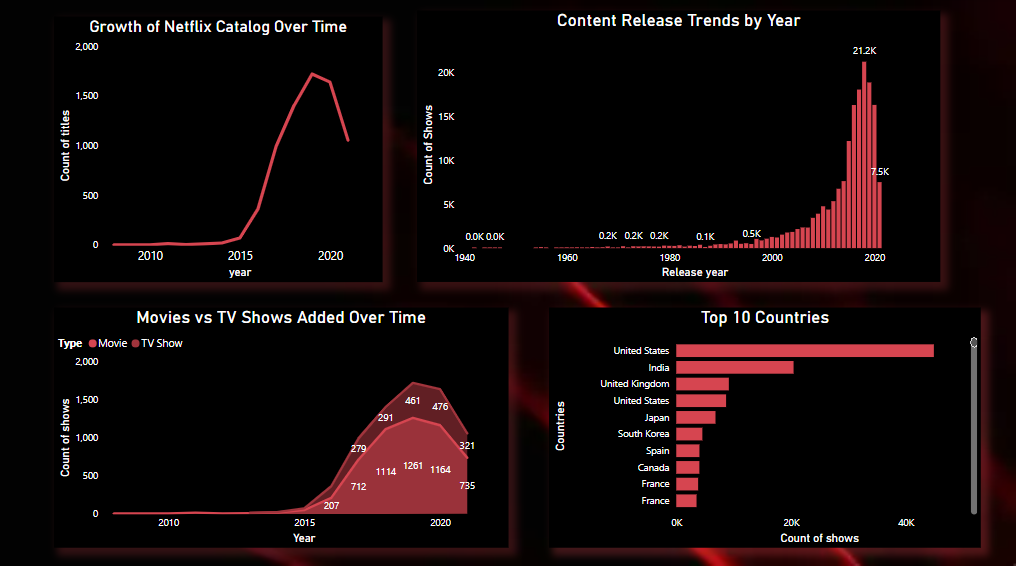

Layout of this report page (visuals, bound fields, positions):
{"tool":"powerbi","page":{"name":"Page 2","canvas":[1280,720],"ordinal":1},"visuals":[{"type":"lineChart","title":"Growth of Netflix Catalog Over Time","fields":{"Category":["netflix_dataset.Year_Added"],"Y":["Count(netflix_dataset.show_id)"]},"box":[68,24.6,413.9,334.5],"z":0},{"type":"stackedAreaChart","title":"Movies vs TV Shows Added Over Time","fields":{"Category":["netflix_dataset.Year_Added"],"Series":["netflix_dataset.type"],"Y":["Count(netflix_dataset.show_id)"]},"box":[68,391.2,572.6,302.4],"z":1000},{"type":"clusteredColumnChart","fields":{"Category":["netflix_dataset.release_year"],"Y":["CountNonNull(netflix_dataset.show_id)"]},"box":[525.4,17,659.5,342],"z":2000},{"type":"barChart","title":"Top 10 Countries","fields":{"Y":["CountNonNull(netflix_dataset.show_id)"],"Category":["netflix_dataset.country","netflix_dataset.director"]},"box":[691.7,391.2,544.3,302.4],"z":2001}]}

Visuals, with their boxes in screenshot pixels (x1, y1, x2, y2), scaled from the page's 1280x720 canvas onto the 1016x566 screenshot:
"Growth of Netflix Catalog Over Time" lineChart: 54, 19, 383, 282
"Movies vs TV Shows Added Over Time" stackedAreaChart: 54, 308, 508, 545
clusteredColumnChart - netflix_dataset.release_year x CountNonNull(netflix_dataset.show_id): 417, 13, 941, 282
"Top 10 Countries" barChart: 549, 308, 981, 545
